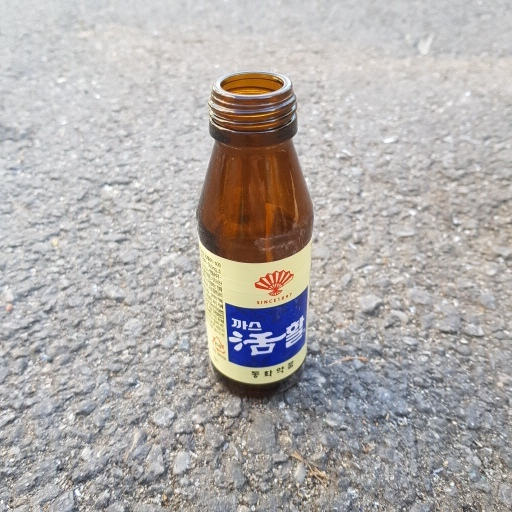Glass_3: (188, 69, 322, 398)
